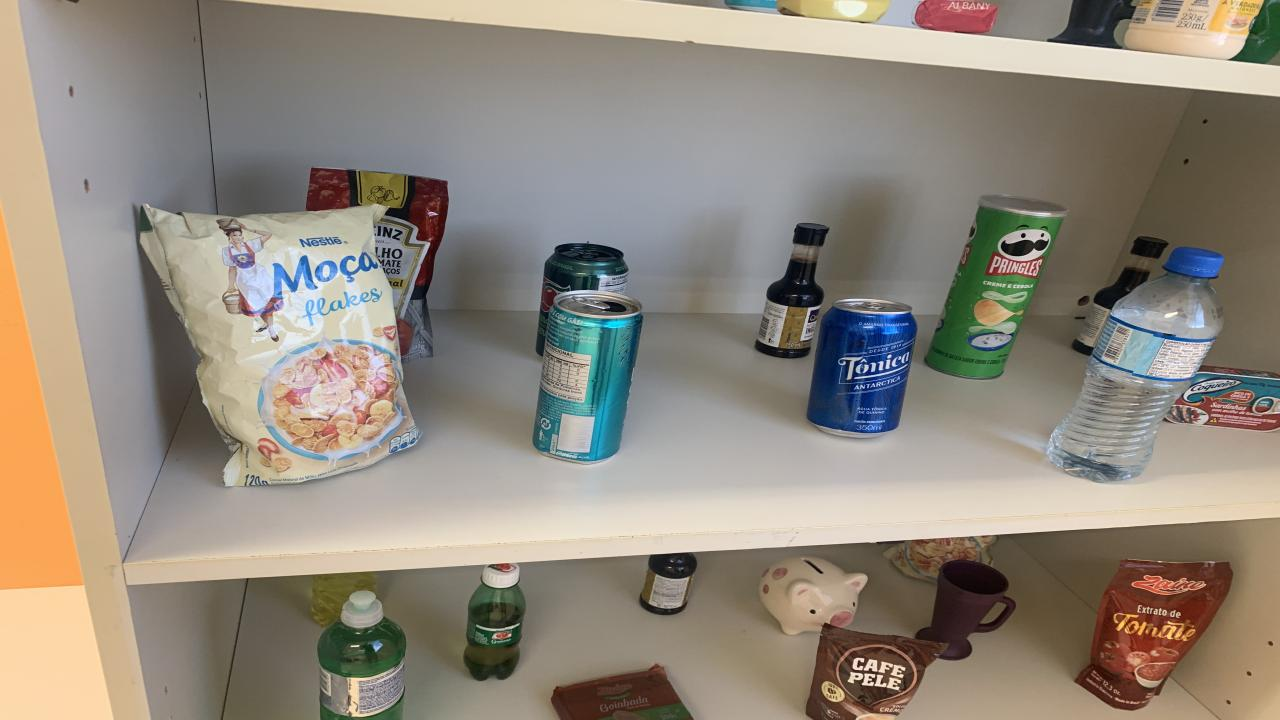Cleaner-Cleanup_Items: (725, 0, 778, 13)
Coffee-Pantry_Items: (805, 624, 948, 720)
Detergent-Cleanup_Items: (318, 591, 405, 720), (310, 572, 378, 626), (1232, 0, 1280, 64)
English_Sauce-Pantry_Items: (1072, 236, 1168, 354), (755, 223, 828, 358), (640, 553, 698, 615)
Flakes-Snacks: (140, 204, 420, 486), (882, 534, 998, 583)
Guarana-Drinks: (465, 562, 525, 681)
Guarana_Can-Drinks: (535, 244, 628, 354)
Guava-Snacks: (550, 664, 692, 720)
Mayonnaise-Pantry_Items: (1125, 0, 1262, 60)
Mustard-Pantry_Items: (778, 0, 890, 22)
Pig_Safe-Miscellaneous: (760, 557, 868, 636)
Pringles-Snacks: (925, 195, 1068, 379)
Soap-Cleanup_Items: (915, 0, 998, 34)
Tea-Drinks: (532, 291, 642, 463)
Tomato_Sauce-Pantry_Items: (305, 169, 448, 360), (1075, 559, 1232, 711)
Tonic-Drinks: (808, 298, 918, 437)
Tuna_Can-Pantry_Items: (1165, 366, 1280, 431)
Water_Bottle-Drinks: (1048, 248, 1222, 482)
